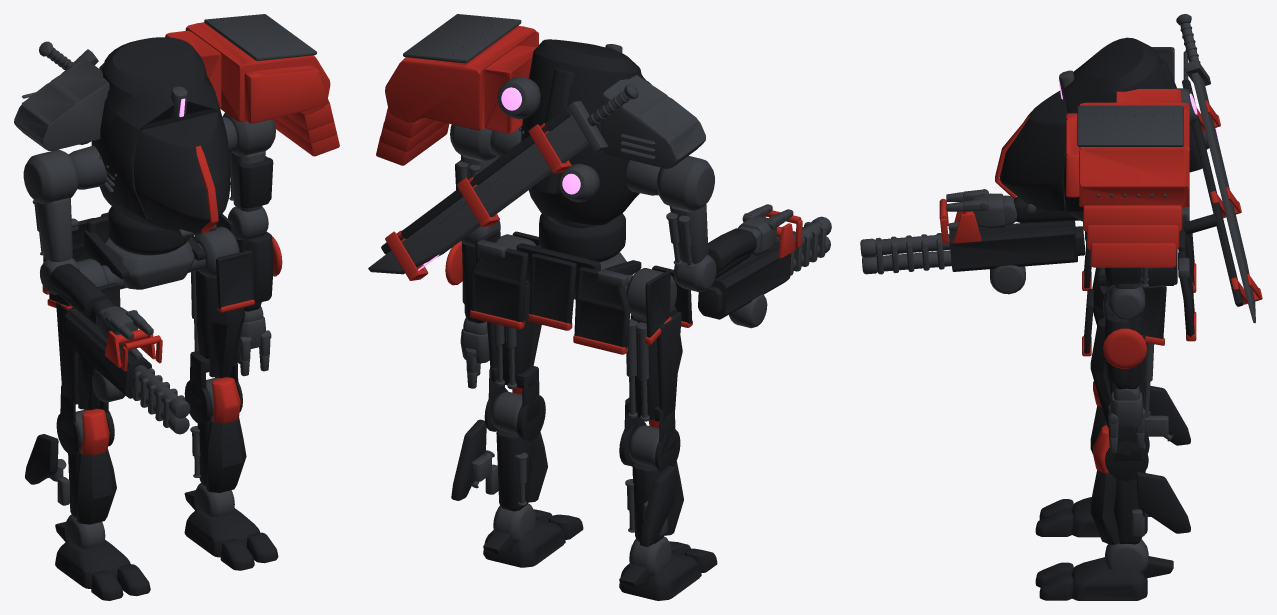
File: Titan_L2.fbx
The picture shows the model from 3 angles, left to right: view 1: azimuth 30°, elevation 25°; view 2: azimuth 150°, elevation 25°; view 3: azimuth 270°, elevation 25°; orthographic projection. The views are drawn at different scales.
Visible parts, largest first — view 1: L2_Torso_Upper, L2_Hatch, L2_Pauldron_L, L2_Shoulder_Cap_R, L2_Pauldron_Trim_L, L2_Pelvis, L2_Shotgun_Body, L2_Shin_Plate_R, L2_Shin_Plate_L, L2_UpperArm_Hub_R, L2_Thigh_Plate_L, L2_Waist (+40 smaller); view 2: L2_Skirt_Back, L2_Pauldron_L, L2_Torso_Upper, L2_Sword_Blade, L2_Shoulder_Cap_R, L2_Shotgun_Body, L2_Pauldron_Trim_L, L2_Waist, L2_UpperArm_Hub_R, L2_Pauldron_Lames_L, L2_Rack_Clamps, L2_Thigh_Clevis_L (+47 smaller); view 3: L2_Pauldron_L, L2_Pauldron_Lames_L, L2_Hatch, L2_Shotgun_Body, L2_Torso_Upper, L2_Pauldron_Trim_L, L2_Foot_L, L2_Sword_Blade, L2_Shotgun_Barrels, L2_Rack, L2_Calf_Blade_L, L2_Thigh_Clevis_L (+26 smaller).
Boxes of the visible parts, x1,y1,x2,y2 form: L2_Torso_Upper: (91,37,227,229); L2_Hatch: (133,112,230,233); L2_Pauldron_L: (165,22,330,123); L2_Shoulder_Cap_R: (14,60,109,150); L2_Pauldron_Trim_L: (204,14,316,60); L2_Pelvis: (102,238,205,289); L2_Shotgun_Body: (63,308,151,398); L2_Shin_Plate_R: (76,449,116,524); L2_Shin_Plate_L: (206,417,246,492); L2_UpperArm_Hub_R: (23,149,78,204); L2_Thigh_Plate_L: (206,275,245,378); L2_Waist: (108,206,190,255); L2_Skirt_Back: (471,248,630,348); L2_Pauldron_L: (385,25,538,133); L2_Torso_Upper: (521,39,648,225); L2_Sword_Blade: (368,115,589,274); L2_Shoulder_Cap_R: (602,75,705,168); L2_Shotgun_Body: (698,242,791,319); L2_Pauldron_Trim_L: (403,14,521,63); L2_Waist: (539,213,625,262); L2_UpperArm_Hub_R: (656,155,714,211); L2_Pauldron_Lames_L: (376,108,449,165); L2_Rack_Clamps: (385,123,571,280); L2_Thigh_Clevis_L: (484,365,545,441); L2_Pauldron_L: (1066,89,1189,207); L2_Pauldron_Lames_L: (1083,205,1182,267); L2_Hatch: (1000,90,1067,211); L2_Shotgun_Body: (949,221,1084,271); L2_Torso_Upper: (1064,37,1171,221); L2_Pauldron_Trim_L: (1077,105,1183,146); L2_Foot_L: (1072,557,1147,600); L2_Sword_Blade: (1191,72,1255,323); L2_Shotgun_Barrels: (860,234,951,274); L2_Rack: (1182,79,1243,306); L2_Calf_Blade_L: (1136,472,1190,533); L2_Thigh_Clevis_L: (1105,428,1149,480).
Size of the model in its own units: 3.54 by 5.87 by 4.22.
